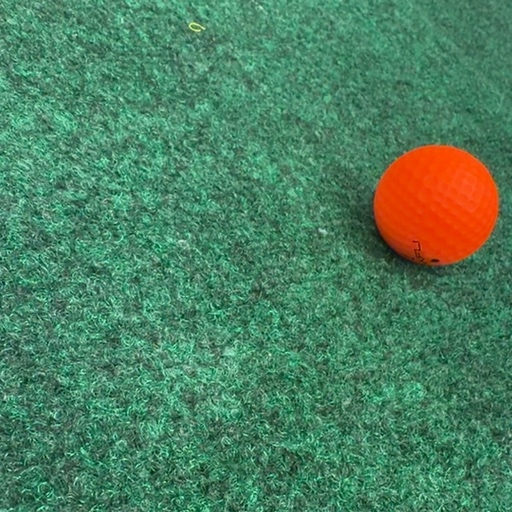Ball: (373, 145, 498, 265)
